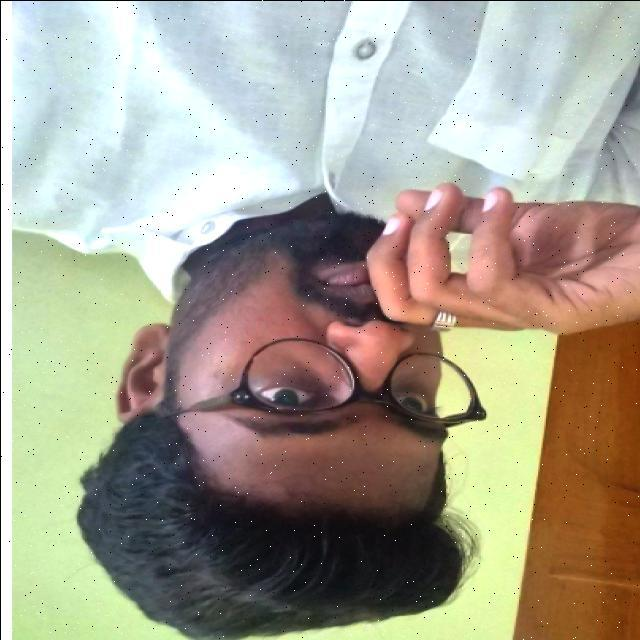face_no_mask: (89, 222, 449, 525)
